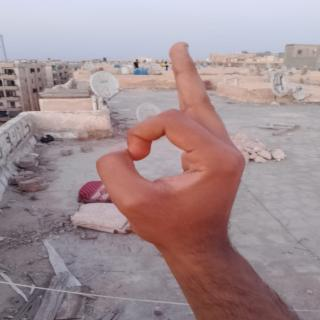Space: (97, 38, 253, 252)
